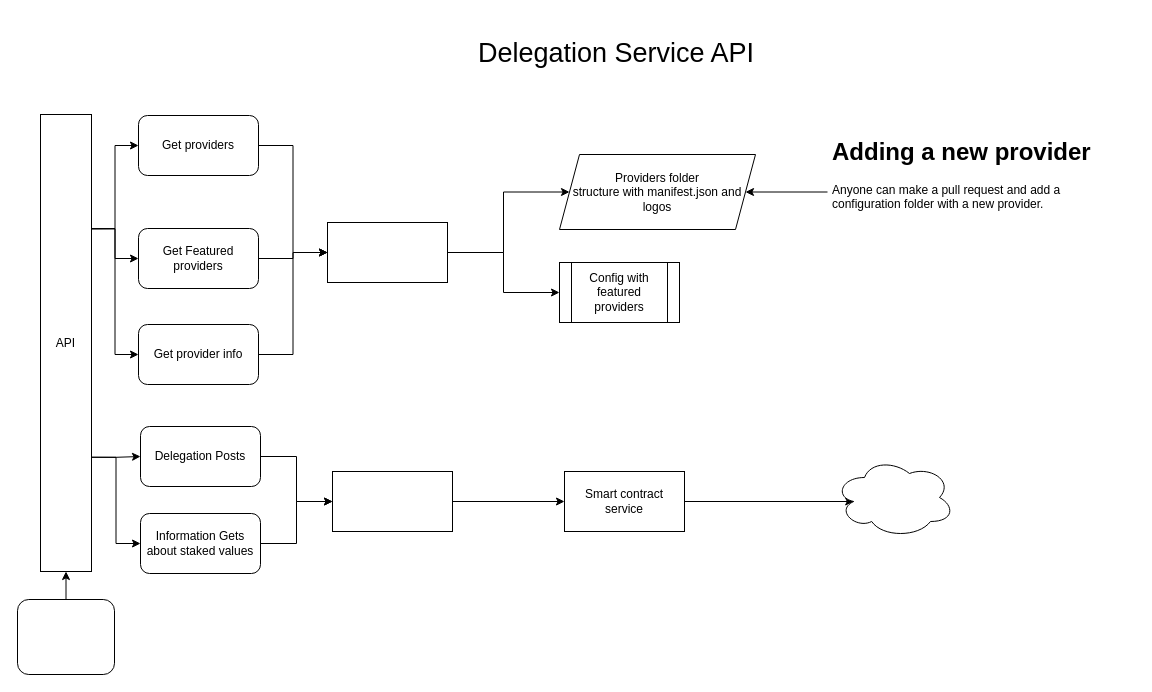
Image size: 1152x692. Some labels were removed from this diagram. Each missing label, with the centre of its shape:
"Delegation Module" goes at (392,501).
"Elrond" goes at (894,497).
"Providers Module" goes at (387,252).
"Swagger API documentation" goes at (65,636).
